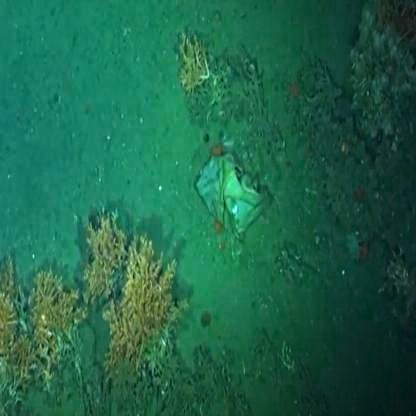misc: (198, 150, 280, 236)
